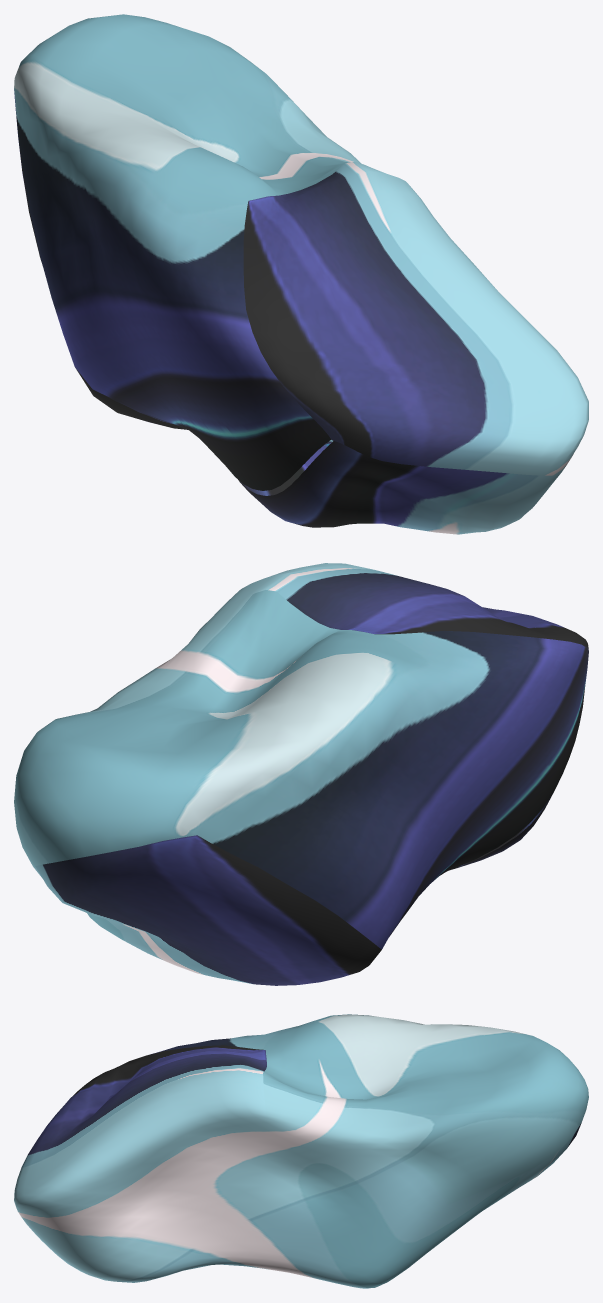
The model's file is ice.fbx.
3 views of the same model, one above another, from view 1: azimuth 30°, elevation 25°; view 2: azimuth 150°, elevation 25°; view 3: azimuth 270°, elevation 25° (orthographic). The views are drawn at different scales.
Parts seen in each view (by area): view 1: ice1; view 2: ice1; view 3: ice1.
Part boxes in pixels (<box>): ice1: <box>14,14,588,534</box>; ice1: <box>14,563,588,985</box>; ice1: <box>14,1014,588,1288</box>.
Size of the model in its own units: 308 by 304 by 742.
